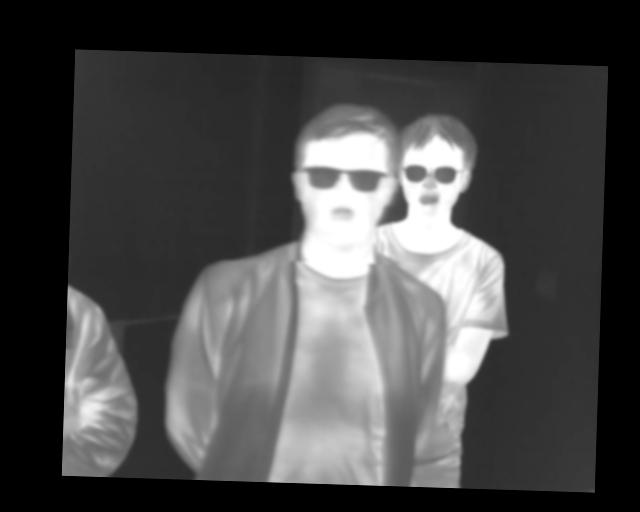face: (289, 97, 398, 251), (398, 109, 479, 219)
